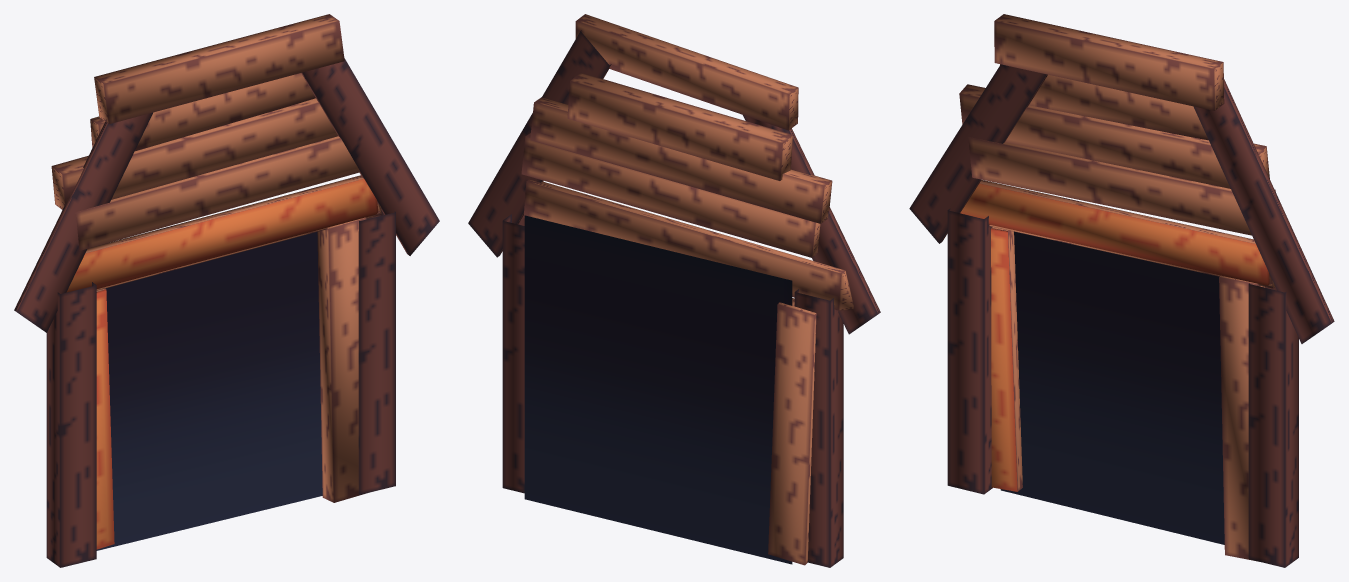
Rendered from PortaBondinho.fbx.
3 renders of one model, left to right at view 1: azimuth 30°, elevation 25°; view 2: azimuth 150°, elevation 25°; view 3: azimuth 330°, elevation 25°, orthographic. The views are drawn at different scales.
Parts seen in each view (by area): view 1: PortaBondinho; view 2: PortaBondinho; view 3: PortaBondinho.
Boxes of the visible parts, box(x1,y1,x2,y2) form: PortaBondinho: box(14, 14, 439, 567); PortaBondinho: box(468, 14, 880, 567); PortaBondinho: box(909, 14, 1334, 567).
Size of the model in its own units: 611 by 67.98 by 681.
